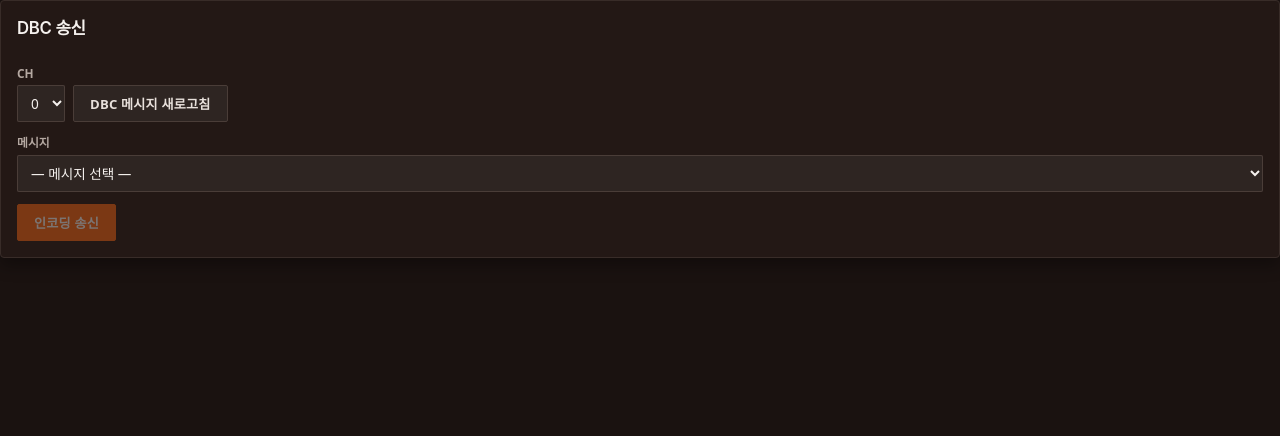
DbcTxPanel › 송신 후 송신 피드백(송신됨: ...)을 표시한다
The image size is (1280, 436).
Select "EngineData (0x100)" in the dropdown labelled "메시지": coordinates (640, 173) [17, 155, 1263, 192]
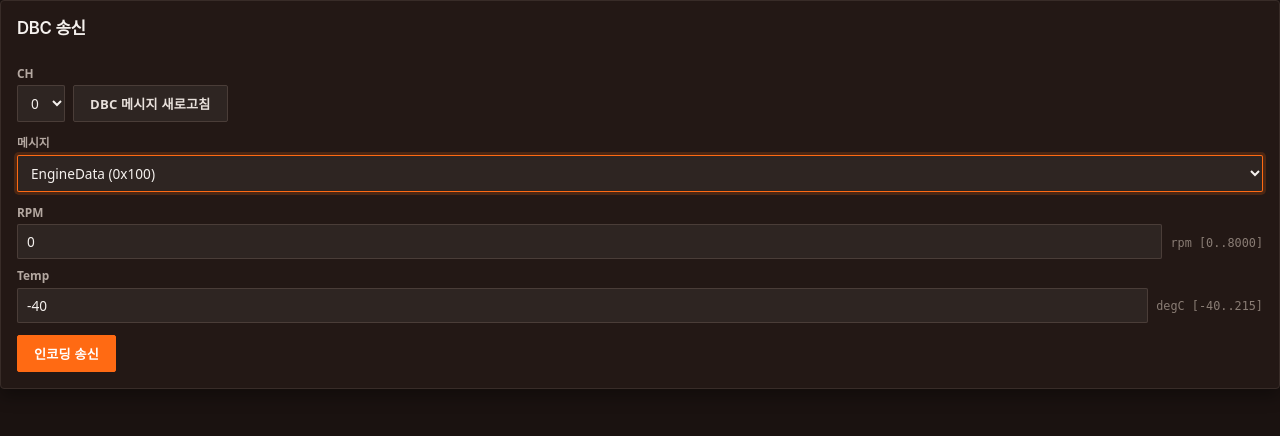
Click the button "인코딩 송신": coordinates (66, 353) [17, 335, 116, 372]
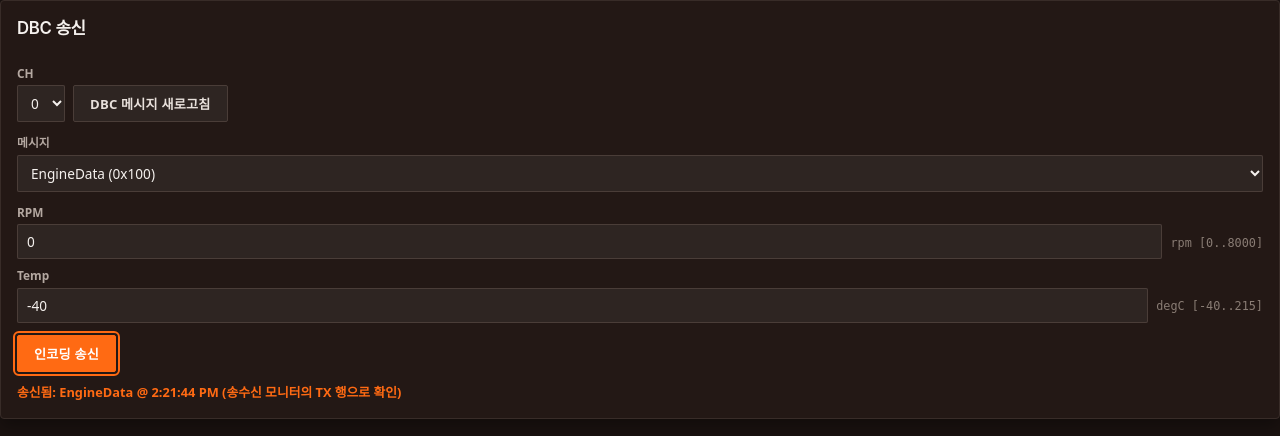
Expected: the text "송신됨: EngineData @ 2:21:44 PM (송수신 모니터의 TX 행으로 확인)" is shown, [17, 383, 401, 401]
